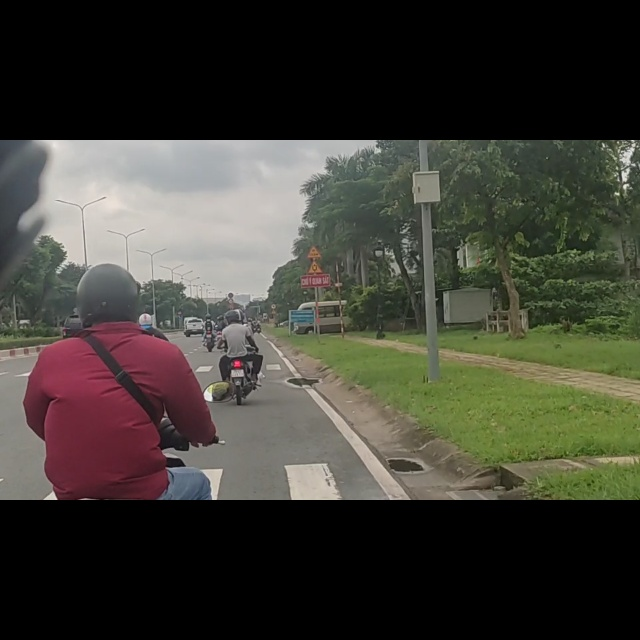bien_cam: (307, 213, 324, 238), (307, 187, 322, 210), (227, 270, 235, 282)
